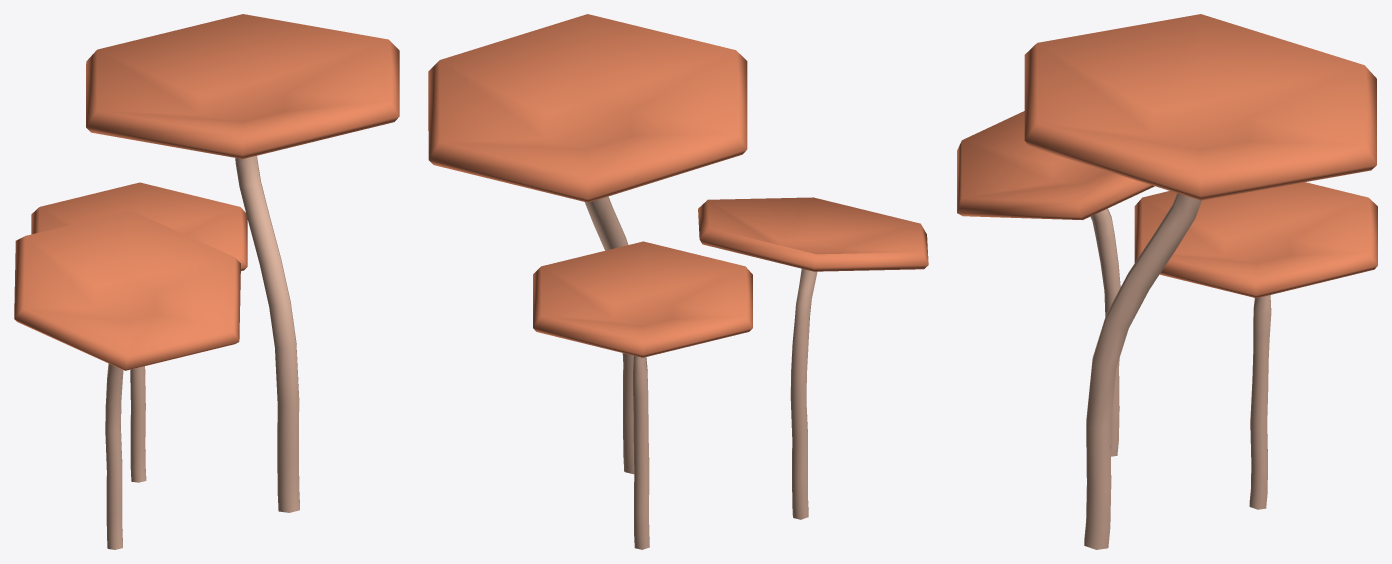
File: Mushroom3.fbx
3 views of the same model, side by side, from view 1: azimuth 30°, elevation 25°; view 2: azimuth 150°, elevation 25°; view 3: azimuth 270°, elevation 25° (orthographic). The views are drawn at different scales.
Parts seen in each view (by area): view 1: Line.007, Line.008, Line.009; view 2: Line.007, Line.009, Line.008; view 3: Line.007, Line.009, Line.008.
Part boxes in pixels (bbox=[...]): Line.007: bbox=[86, 14, 399, 512]; Line.008: bbox=[14, 210, 240, 549]; Line.009: bbox=[31, 182, 247, 482]; Line.007: bbox=[428, 14, 747, 474]; Line.009: bbox=[533, 241, 752, 549]; Line.008: bbox=[698, 197, 928, 519]; Line.007: bbox=[1024, 14, 1376, 549]; Line.009: bbox=[1134, 182, 1377, 509]; Line.008: bbox=[957, 111, 1154, 456].
Bounding box in the file's own units: 244 × 220 × 180.
